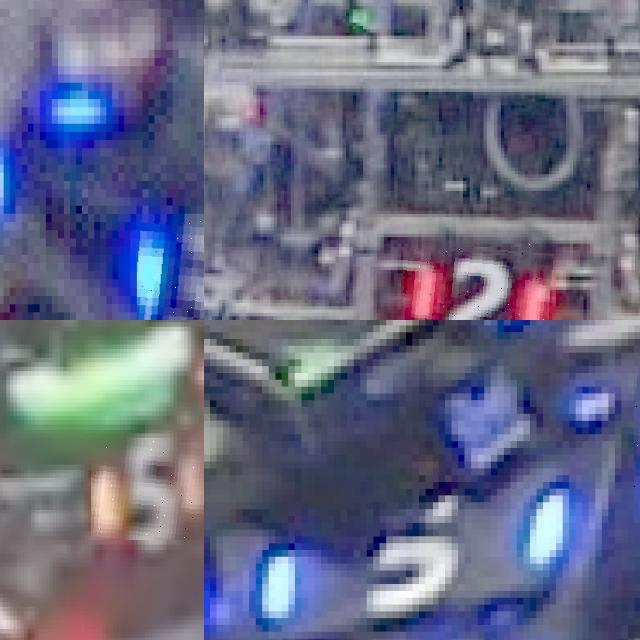B3: (136, 213, 204, 320)
B5: (262, 489, 569, 625)
R2: (402, 241, 554, 320)
R5: (91, 438, 204, 540)
